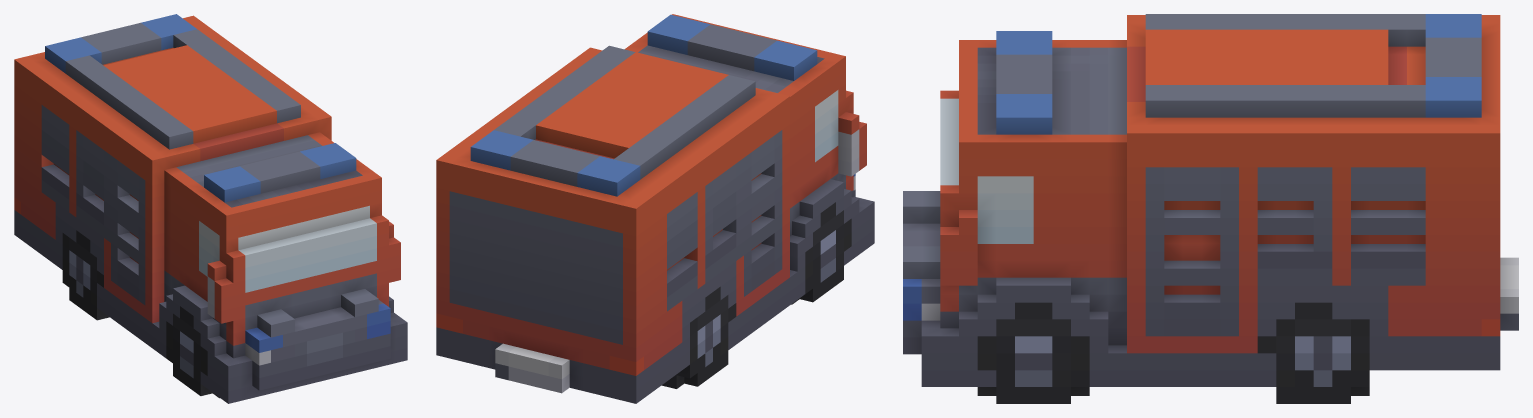
File: firetruck.glb
3 renders of one model, left to right at view 1: azimuth 30°, elevation 25°; view 2: azimuth 150°, elevation 25°; view 3: azimuth 270°, elevation 25°, orthographic. The views are drawn at different scales.
Parts seen in each view (by area): view 1: voxels; view 2: voxels; view 3: voxels.
Part boxes in pixels (left/top/right/bottom): voxels: left=14, top=14, right=407, bottom=403; voxels: left=436, top=14, right=874, bottom=403; voxels: left=903, top=14, right=1518, bottom=403.
Bounding box in the file's own units: 1.59 × 1.81 × 3.51.
